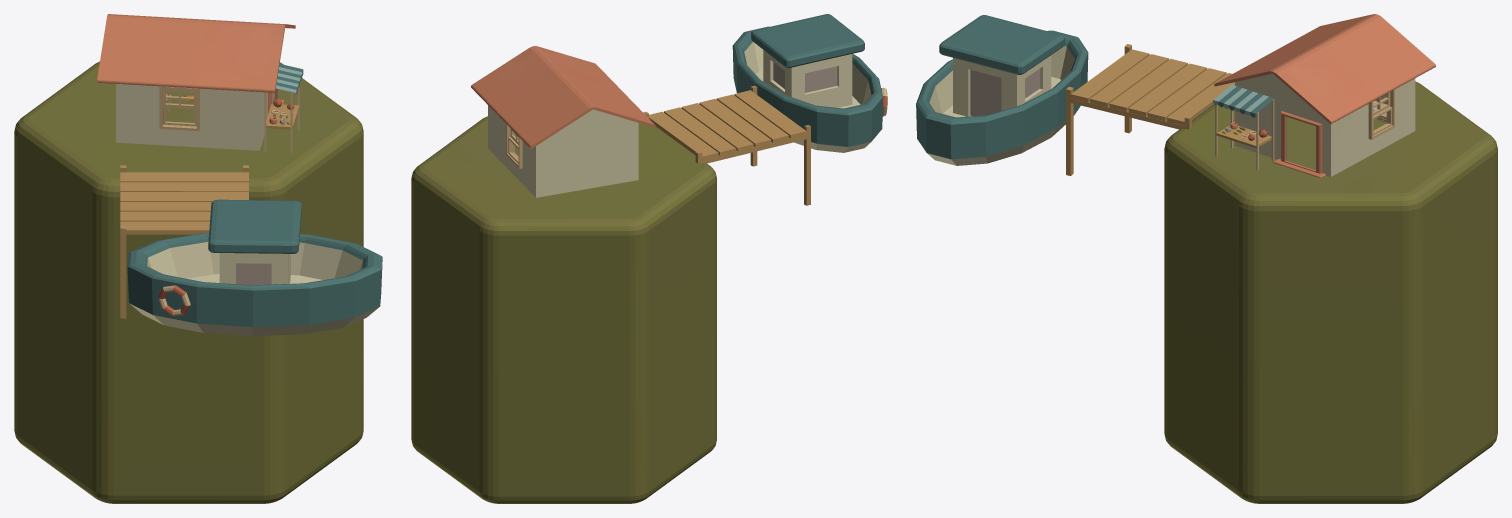
File: Hex-home.glb
The picture shows the model from 3 angles, left to right: view 1: azimuth 30°, elevation 25°; view 2: azimuth 150°, elevation 25°; view 3: azimuth 270°, elevation 25°; orthographic projection. The views are drawn at different scales.
Visible parts, largest first — view 1: Cylinder, Sphere.026_Material.001_0, Cube.079_Material.001_0, Cube.096_Material.001_0, Window; view 2: Cylinder, Cube.079_Material.001_0, Sphere.026_Material.001_0, Cube.096_Material.001_0; view 3: Cylinder, Cube.079_Material.001_0, Sphere.026_Material.001_0, Cube.096_Material.001_0, Window.001.
Boxes of the visible parts, bbox=[...] form: Cylinder: bbox=[14, 61, 363, 503]; Sphere.026_Material.001_0: bbox=[127, 199, 382, 336]; Cube.079_Material.001_0: bbox=[97, 14, 303, 152]; Cube.096_Material.001_0: bbox=[120, 165, 248, 318]; Window: bbox=[159, 86, 199, 130]; Cylinder: bbox=[411, 116, 716, 503]; Cube.079_Material.001_0: bbox=[471, 46, 655, 197]; Sphere.026_Material.001_0: bbox=[732, 14, 887, 152]; Cube.096_Material.001_0: bbox=[643, 85, 810, 205]; Cylinder: bbox=[1164, 81, 1497, 503]; Cube.079_Material.001_0: bbox=[1213, 14, 1435, 178]; Sphere.026_Material.001_0: bbox=[916, 15, 1088, 165]; Cube.096_Material.001_0: bbox=[1066, 44, 1234, 175]; Window.001: bbox=[1368, 89, 1394, 139].
Size of the model in its own units: 2.2 by 2.62 by 3.41.
25 materials, 4 textured.
